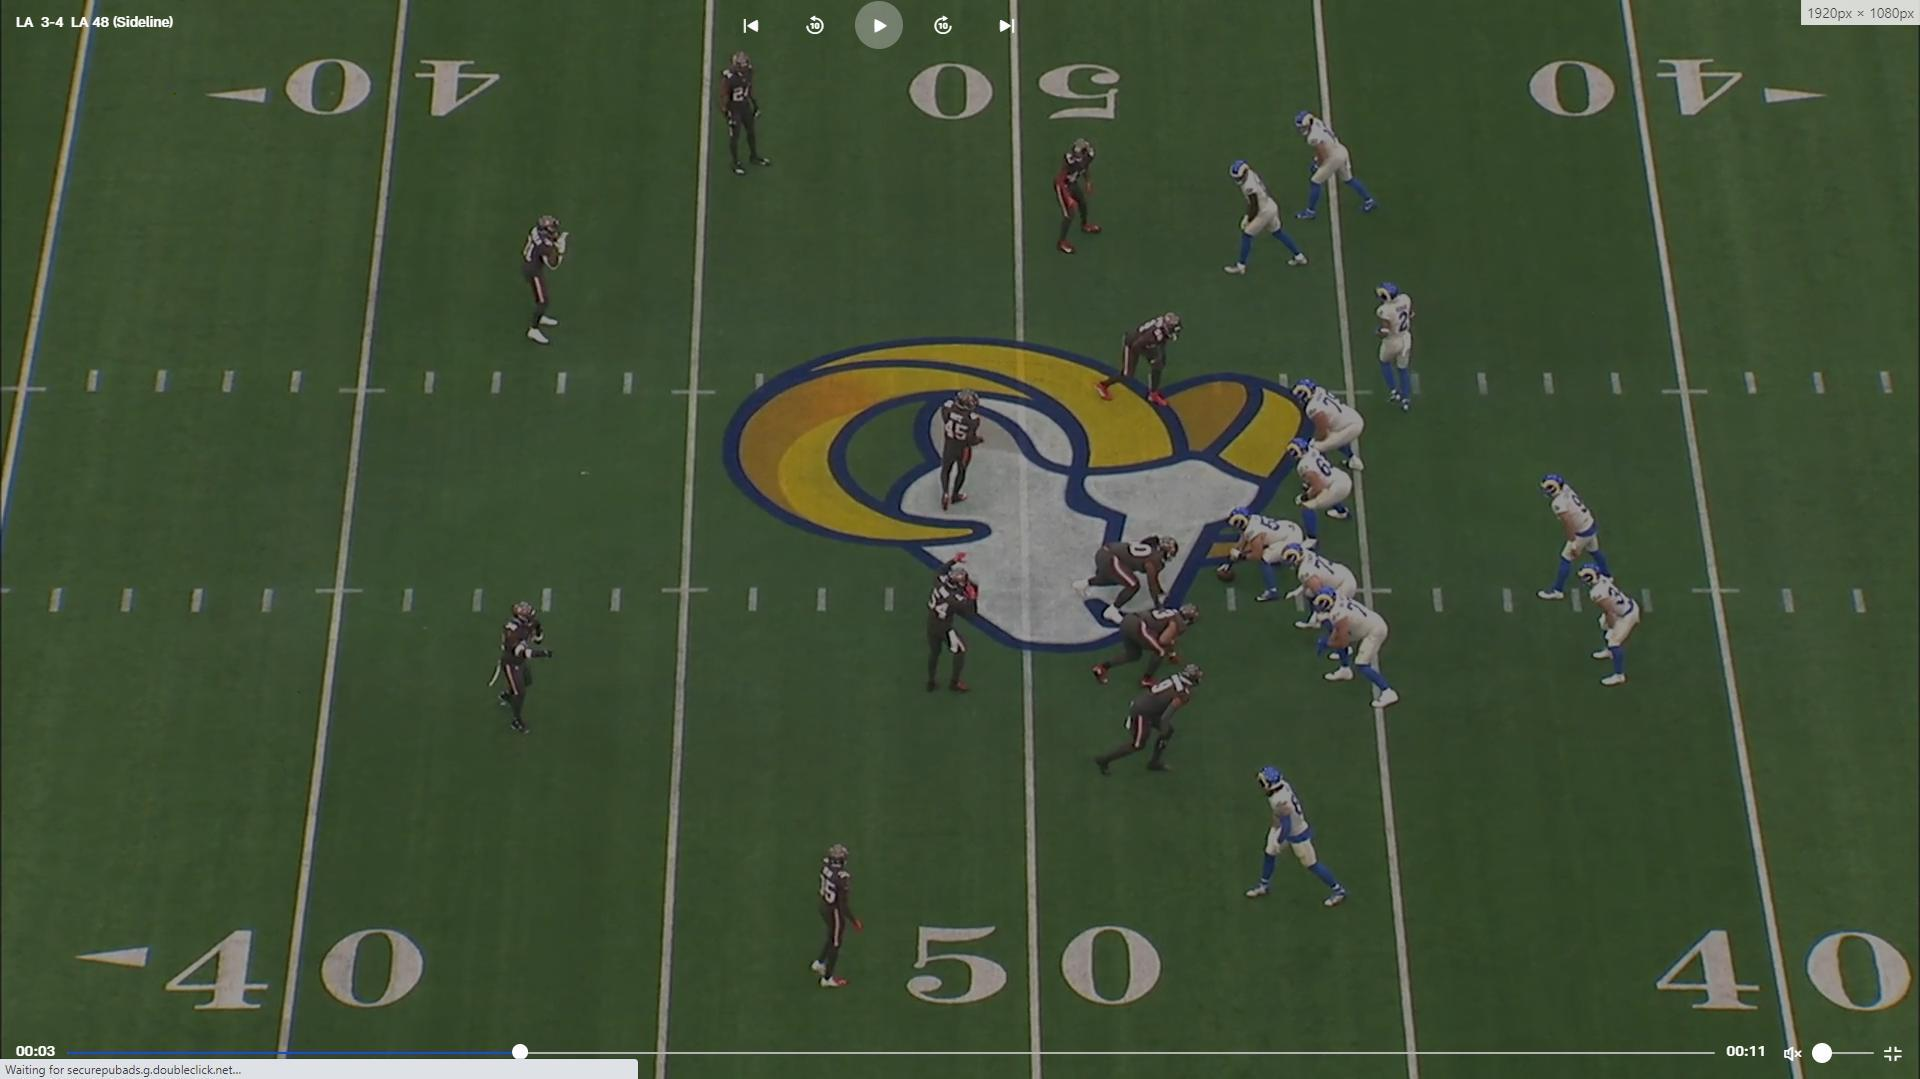player: (1237, 766, 1356, 918), (1085, 661, 1203, 786), (1302, 579, 1395, 712), (1222, 155, 1315, 279), (1294, 107, 1387, 229), (1093, 602, 1210, 693), (1536, 466, 1609, 609), (807, 836, 871, 999), (915, 545, 980, 703), (1581, 556, 1652, 691), (487, 595, 549, 740), (1216, 508, 1311, 602), (1072, 530, 1182, 610), (1367, 274, 1427, 419), (1107, 309, 1190, 412), (708, 48, 769, 188), (1293, 371, 1372, 477), (517, 211, 573, 357), (1288, 434, 1354, 552), (1049, 132, 1103, 261), (935, 390, 988, 518), (1293, 544, 1371, 624)
